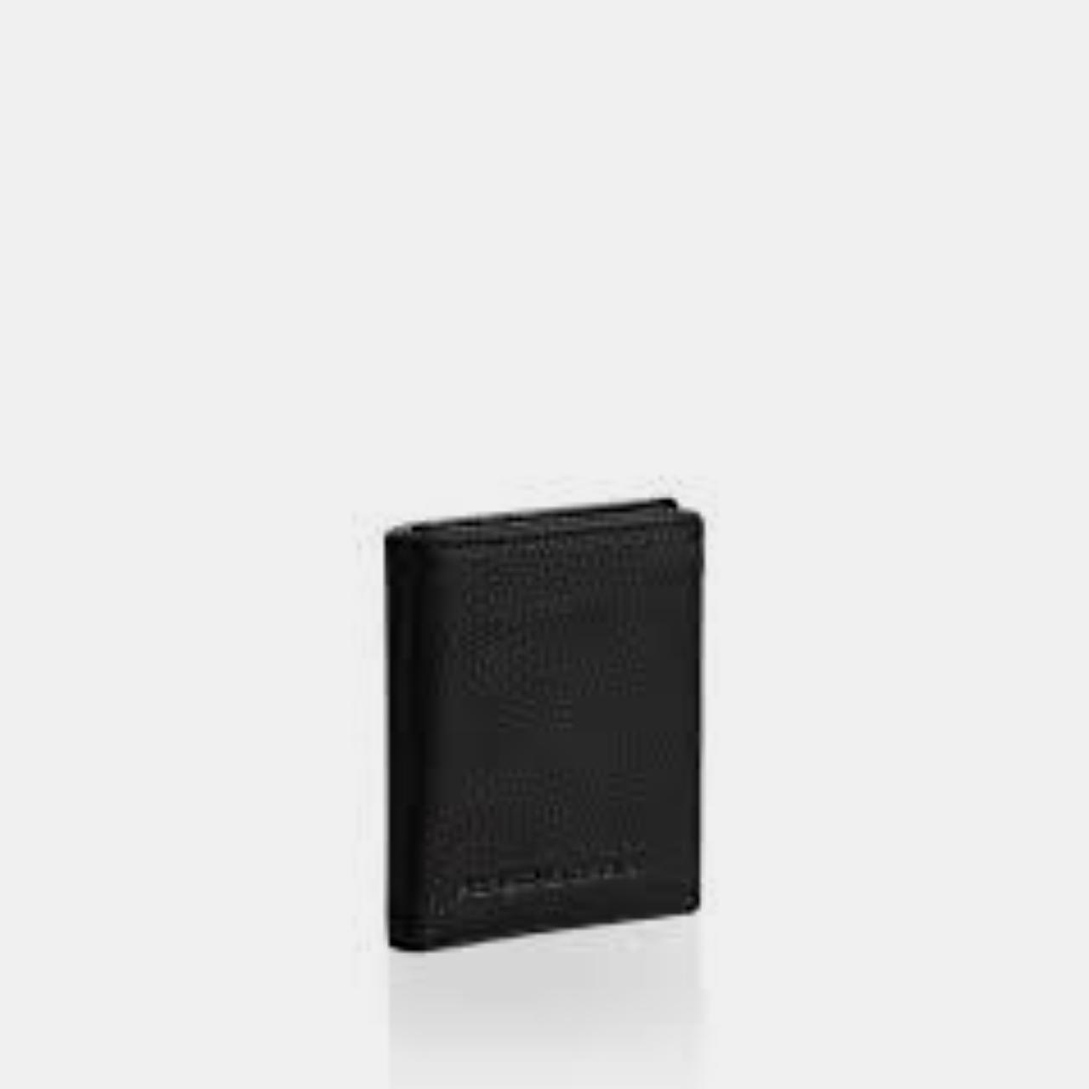wallet: (364, 481, 771, 974)
